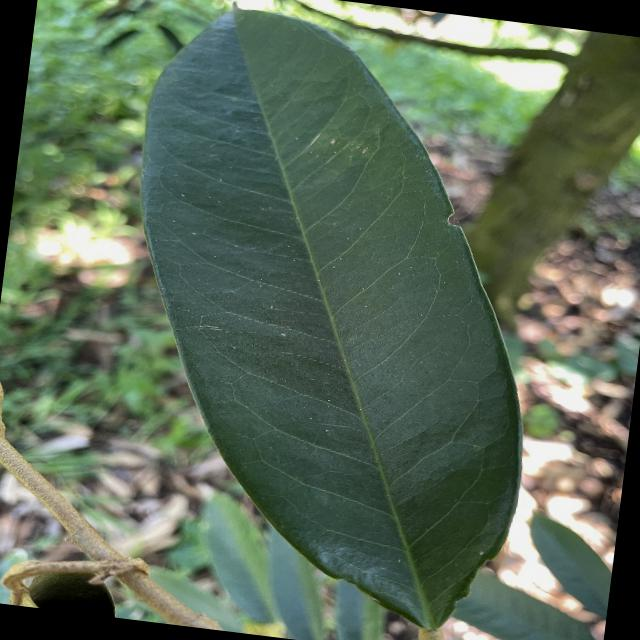No Disease: (79, 0, 582, 639)
